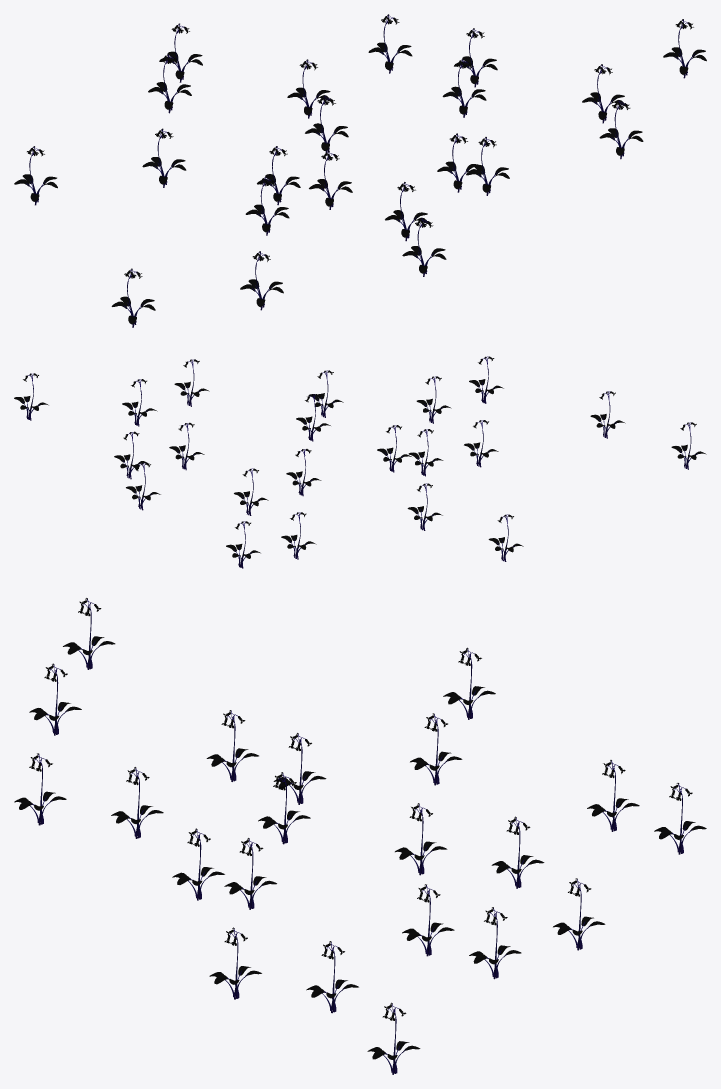
File: Many flowes test.fbx
The picture shows the model from 3 angles, top to bottom: view 1: azimuth 30°, elevation 25°; view 2: azimuth 150°, elevation 25°; view 3: azimuth 270°, elevation 25°; orthographic projection. The views are drawn at different scales.
Parts seen in each view (by area): view 1: Low poly.024; view 2: Low poly.024; view 3: Low poly.024.
Part boxes in pixels (<box>): Low poly.024: <box>14,14,706,327</box>; Low poly.024: <box>14,356,706,568</box>; Low poly.024: <box>14,598,706,1074</box>.
Size of the model in its own units: 19035 by 1778 by 13512.
